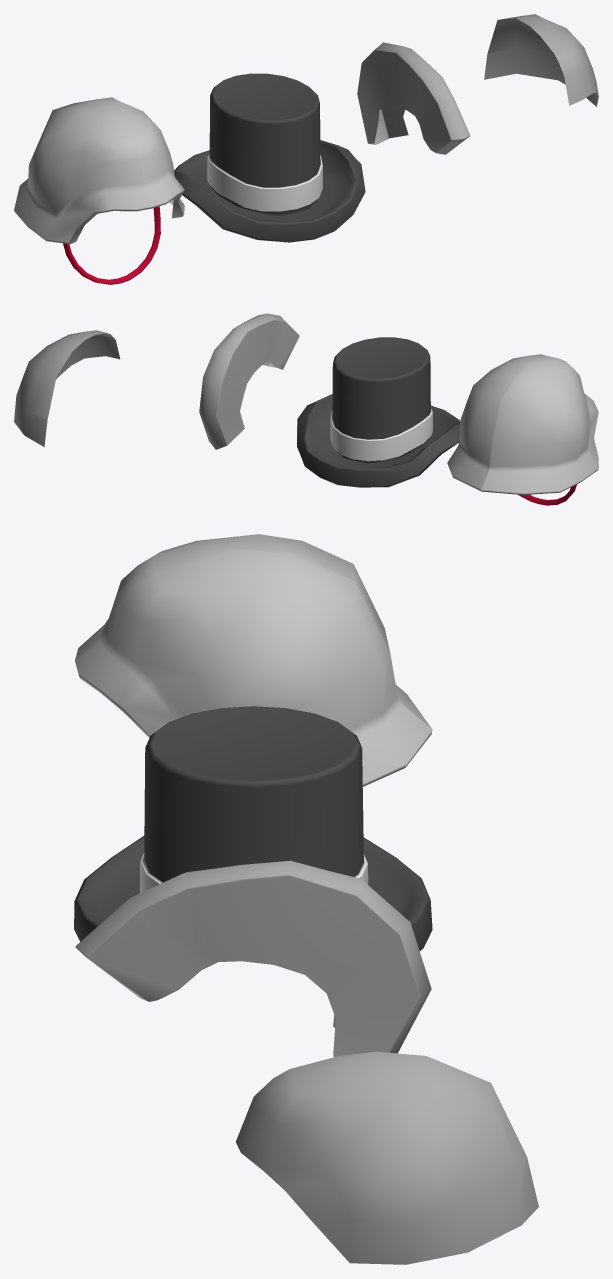
The model's file is CharCustomizations.fbx.
The picture shows the model from 3 angles, top to bottom: view 1: azimuth 30°, elevation 25°; view 2: azimuth 150°, elevation 25°; view 3: azimuth 270°, elevation 25°; orthographic projection. The views are drawn at different scales.
Visible parts, largest first — view 1: pCylinder5, polySurface30, polySurface32, polySurface31; view 2: pCylinder5, polySurface30, polySurface32, polySurface31; view 3: polySurface30, polySurface31, pCylinder5, polySurface32.
Boxes of the visible parts, x1,y1,x2,y2 form: pCylinder5: [174, 73, 365, 242]; polySurface30: [14, 97, 184, 284]; polySurface32: [357, 42, 470, 154]; polySurface31: [484, 14, 598, 106]; pCylinder5: [297, 337, 460, 487]; polySurface30: [447, 354, 598, 505]; polySurface32: [199, 313, 299, 449]; polySurface31: [14, 330, 120, 447]; polySurface30: [75, 534, 432, 786]; polySurface31: [236, 1051, 538, 1264]; pCylinder5: [74, 706, 432, 951]; polySurface32: [75, 860, 431, 1056].
Bounding box in the file's own units: 1.74 × 0.4632 × 0.663.
